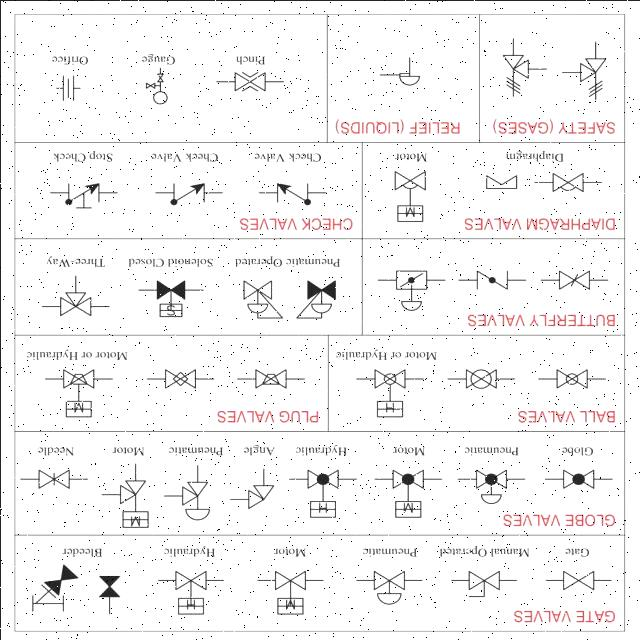3 Way Gate Valve: (52, 282, 104, 330)
Angle Valve: (236, 474, 282, 514)
BackPressure Regulator: (220, 270, 288, 326)
Ball Valve: (448, 358, 503, 392), (546, 358, 597, 394)
Bleeder Valve: (30, 558, 86, 618), (92, 566, 132, 620)
Butterfly Valve: (466, 264, 518, 299), (544, 262, 594, 296)
Check Valve: (162, 176, 212, 212), (271, 180, 323, 212)
Cock Valve: (464, 566, 506, 604)
Diaphragm Valve: (544, 167, 598, 202), (484, 170, 523, 197)
Gate Valve: (556, 566, 600, 594)
Gauge: (142, 66, 176, 118)
Globe Valve: (558, 464, 598, 496)
Hydraulic Operated Ball Valve: (368, 368, 420, 424)
Hydraulic Operated Gate Valve: (161, 564, 227, 628)
Hydraulic Operated Globe Valve: (292, 463, 358, 523)
Motor Operated Angle Valve: (106, 465, 164, 531), (388, 462, 430, 526)
Motor Operated Diaphragm Valve: (393, 166, 428, 230)
Motor Operated Gate Valve: (253, 562, 329, 627)
Motor Operated Plug Valve: (54, 364, 106, 426)
Needle Valve: (26, 458, 85, 500)
Orifice: (46, 72, 94, 113)
PRV: (367, 45, 431, 100)
PSV: (498, 39, 542, 98), (574, 41, 612, 106)
Pinch Valve: (192, 64, 302, 98)
Plug Valve: (242, 362, 304, 398), (158, 363, 220, 396)
Pneumatic-Diaphragm Angle Valve: (175, 463, 218, 526)
Pneumatic-Diaphragm Butterfly Valve: (387, 263, 438, 317)
Pneumatic-Diaphragm Gate Valve: (356, 563, 430, 613)
Pneumatic-Diaphragm Globe Valve: (468, 465, 512, 509)
Pressure Regulator: (288, 276, 348, 322)
Solenoid Operated Gate Valve: (146, 278, 198, 323)
Stop Valve: (46, 170, 122, 223)
